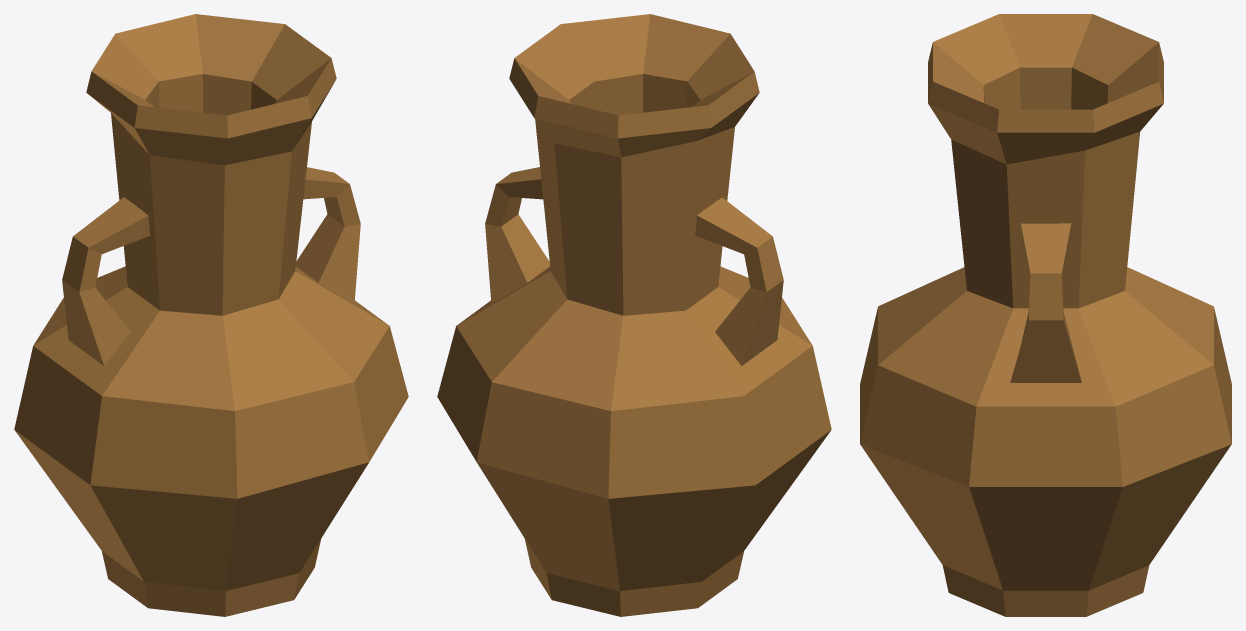
File: egypt-amphora-tall.fbx
3 renders of one model, left to right at view 1: azimuth 30°, elevation 25°; view 2: azimuth 150°, elevation 25°; view 3: azimuth 270°, elevation 25°, orthographic.
Parts seen in each view (by area): view 1: egypt-amphora-tall; view 2: egypt-amphora-tall; view 3: egypt-amphora-tall.
Boxes of the visible parts, x1,y1,x2,y2 form: egypt-amphora-tall: (14, 14, 408, 616); egypt-amphora-tall: (437, 14, 831, 616); egypt-amphora-tall: (860, 14, 1231, 616).
Bounding box in the file's own units: 0.5892 × 0.8994 × 0.5895.
